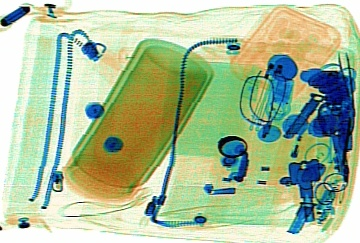lighter: (285, 121, 317, 194)
